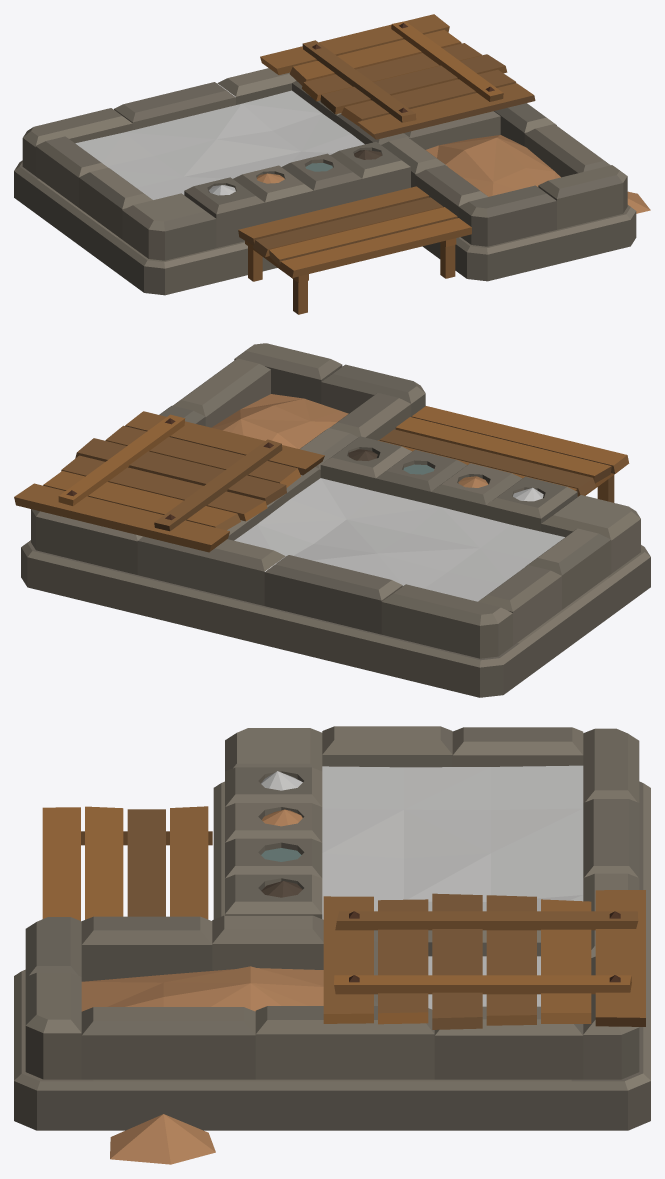
Rendered from lime-mortar-mixing-pit-57c677.glb.
3 views of the same model, one above another, from view 1: azimuth 30°, elevation 25°; view 2: azimuth 150°, elevation 25°; view 3: azimuth 270°, elevation 25° (orthographic). The views are drawn at different scales.
Visible parts, largest first — view 1: pit-body, cover-planks; view 2: pit-body, cover-planks; view 3: pit-body, cover-planks.
Boxes of the visible parts, x1,y1,x2,y2 form: pit-body: (14, 68, 650, 314); cover-planks: (260, 14, 535, 139); pit-body: (21, 343, 650, 697); cover-planks: (14, 411, 324, 552); pit-body: (14, 726, 650, 1164); cover-planks: (323, 890, 645, 1029).
Bounding box in the file's own units: 3.2 × 0.544 × 2.49.
